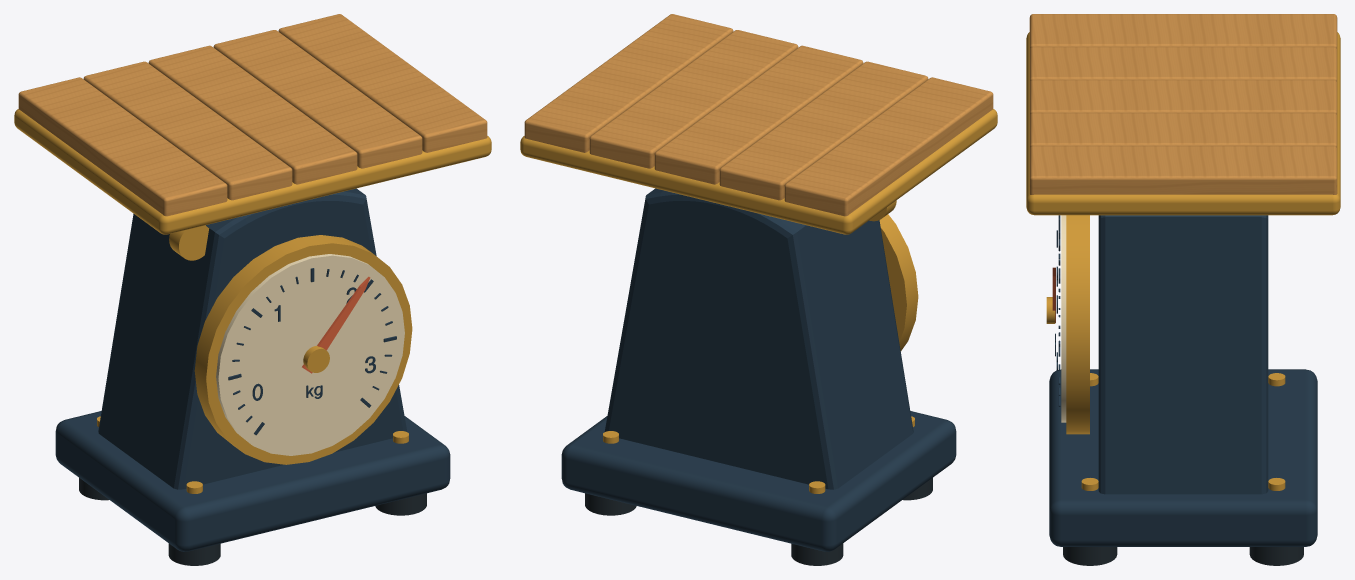
The model's file is mail-scale.glb.
3 views of the same model, side by side, from view 1: azimuth 30°, elevation 25°; view 2: azimuth 150°, elevation 25°; view 3: azimuth 270°, elevation 25° (orthographic). The views are drawn at different scales.
Parts seen in each view (by area): view 1: Scale_Cast_Body, Scale_Dial_Face, Scale_Base, Scale_Platform_Plank_0, Scale_Platform_Plank_2, Scale_Platform_Plank_4, Scale_Platform_Plank_1, Scale_Platform_Plank_3, Scale_Dial_Rim, Scale_Tray_Edge, Scale_Calibration_Knob, Scale_Rubber_Foot_-0.073_0.055 (+2 smaller); view 2: Scale_Cast_Body, Scale_Base, Scale_Platform_Plank_0, Scale_Platform_Plank_2, Scale_Platform_Plank_4, Scale_Platform_Plank_1, Scale_Platform_Plank_3, Scale_Tray_Edge, Scale_Dial_Rim, Scale_Rubber_Foot_-0.073_-0.055, Scale_Rubber_Foot_0.073_-0.055; view 3: Scale_Cast_Body, Scale_Base, Scale_Platform_Plank_4, Scale_Platform_Plank_1, Scale_Platform_Plank_2, Scale_Platform_Plank_3, Scale_Platform_Plank_0, Scale_Tray_Edge, Scale_Dial_Rim, Scale_Dial_Face, Scale_Rubber_Foot_0.073_-0.055, Scale_Rubber_Foot_0.073_0.055.
Boxes of the visible parts, x1=… form: Scale_Cast_Body: x1=98, y1=188, x2=407, y2=489; Scale_Dial_Face: x1=216, y1=254, x2=404, y2=455; Scale_Base: x1=55, y1=411, x2=450, y2=551; Scale_Platform_Plank_0: x1=18, y1=77, x2=227, y2=216; Scale_Platform_Plank_2: x1=148, y1=45, x2=357, y2=184; Scale_Platform_Plank_4: x1=278, y1=14, x2=487, y2=152; Scale_Platform_Plank_1: x1=83, y1=61, x2=292, y2=200; Scale_Platform_Plank_3: x1=213, y1=30, x2=422, y2=168; Scale_Dial_Rim: x1=194, y1=235, x2=412, y2=464; Scale_Tray_Edge: x1=14, y1=109, x2=491, y2=234; Scale_Calibration_Knob: x1=169, y1=225, x2=209, y2=260; Scale_Rubber_Foot_-0.073_0.055: x1=168, y1=543, x2=220, y2=565; Scale_Cast_Body: x1=604, y1=188, x2=913, y2=489; Scale_Base: x1=561, y1=411, x2=956, y2=551; Scale_Platform_Plank_0: x1=784, y1=77, x2=993, y2=216; Scale_Platform_Plank_2: x1=654, y1=45, x2=863, y2=184; Scale_Platform_Plank_4: x1=524, y1=14, x2=733, y2=152; Scale_Platform_Plank_1: x1=719, y1=61, x2=928, y2=200; Scale_Platform_Plank_3: x1=589, y1=30, x2=798, y2=168; Scale_Tray_Edge: x1=520, y1=109, x2=997, y2=234; Scale_Dial_Rim: x1=879, y1=214, x2=918, y2=351; Scale_Rubber_Foot_-0.073_-0.055: x1=791, y1=543, x2=843, y2=565; Scale_Rubber_Foot_0.073_-0.055: x1=585, y1=493, x2=636, y2=515; Scale_Cast_Body: x1=1098, y1=215, x2=1268, y2=494; Scale_Base: x1=1049, y1=369, x2=1317, y2=546; Scale_Platform_Plank_4: x1=1029, y1=146, x2=1337, y2=194; Scale_Platform_Plank_1: x1=1029, y1=47, x2=1337, y2=82; Scale_Platform_Plank_2: x1=1029, y1=80, x2=1337, y2=115; Scale_Platform_Plank_3: x1=1029, y1=113, x2=1337, y2=148; Scale_Platform_Plank_0: x1=1029, y1=14, x2=1337, y2=49; Scale_Tray_Edge: x1=1026, y1=32, x2=1340, y2=215; Scale_Dial_Rim: x1=1066, y1=215, x2=1089, y2=434; Scale_Dial_Face: x1=1061, y1=215, x2=1066, y2=422; Scale_Rubber_Foot_0.073_-0.055: x1=1249, y1=547, x2=1303, y2=565; Scale_Rubber_Foot_0.073_0.055: x1=1063, y1=547, x2=1117, y2=565.
Size of the model in its own units: 0.235 by 0.2645 by 0.185.
6 materials, 1 textured.
